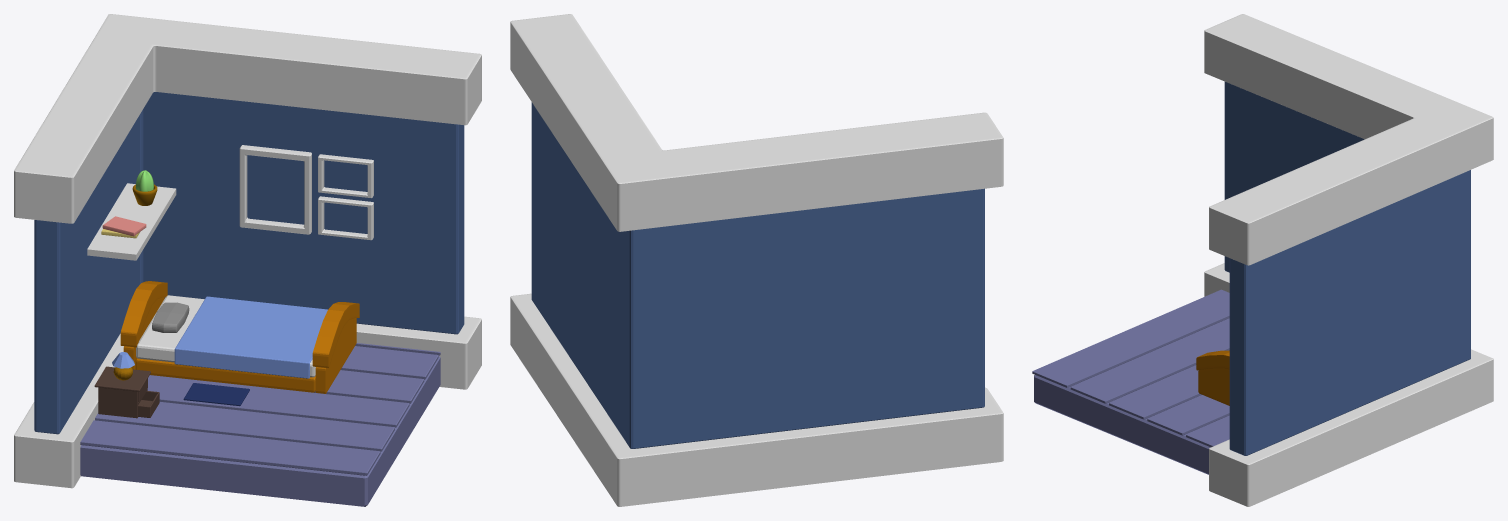
File: isometric.glb
The picture shows the model from 3 angles, left to right: view 1: azimuth 30°, elevation 25°; view 2: azimuth 150°, elevation 25°; view 3: azimuth 270°, elevation 25°; orthographic projection. The views are drawn at different scales.
Parts seen in each view (by area): view 1: Wall, WallTop, FloorWood, FloorBase, WallBottom, BedBlanket, Bedframe, Shelf, Bedbase, Window1, LampStand, BedMatress (+5 smaller); view 2: Wall, WallTop, WallBottom; view 3: Wall, WallTop, WallBottom, FloorWood, FloorBase, Bedframe.
Boxes of the visible parts, bbox=[...] form: Wall: bbox=[34, 92, 464, 434]; WallTop: bbox=[14, 14, 481, 223]; FloorWood: bbox=[80, 343, 440, 475]; FloorBase: bbox=[80, 356, 440, 506]; WallBottom: bbox=[14, 316, 481, 488]; BedBlanket: bbox=[174, 296, 327, 378]; Bedframe: bbox=[120, 281, 359, 393]; Shelf: bbox=[87, 183, 176, 260]; Bedbase: bbox=[135, 358, 315, 392]; Window1: bbox=[239, 145, 311, 234]; LampStand: bbox=[94, 366, 159, 418]; BedMatress: bbox=[136, 295, 315, 377]; Wall: bbox=[531, 102, 984, 448]; WallTop: bbox=[510, 14, 1003, 231]; WallBottom: bbox=[510, 293, 1003, 506]; Wall: bbox=[1224, 82, 1470, 455]; WallTop: bbox=[1204, 14, 1493, 265]; WallBottom: bbox=[1204, 263, 1493, 506]; FloorWood: bbox=[1032, 289, 1229, 447]; FloorBase: bbox=[1034, 318, 1229, 474]; Bedframe: bbox=[1196, 350, 1229, 405].
Bounding box in the file's own units: 3.06 × 1.94 × 2.85.
